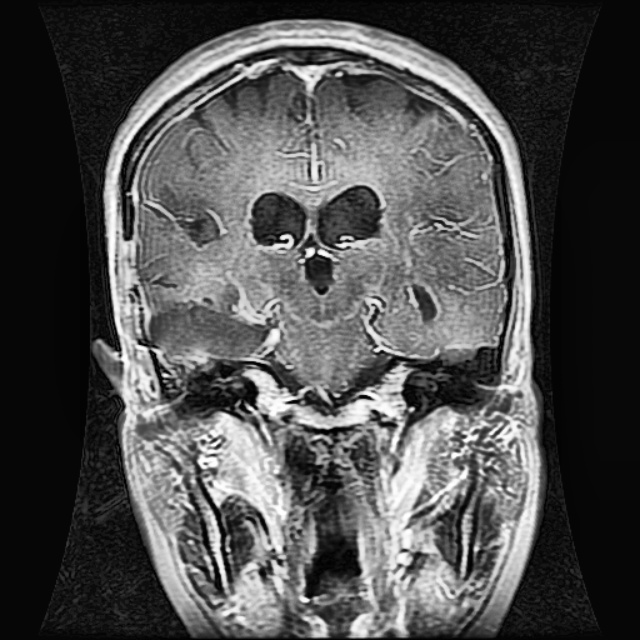Meningioma: (148, 289, 283, 365)
